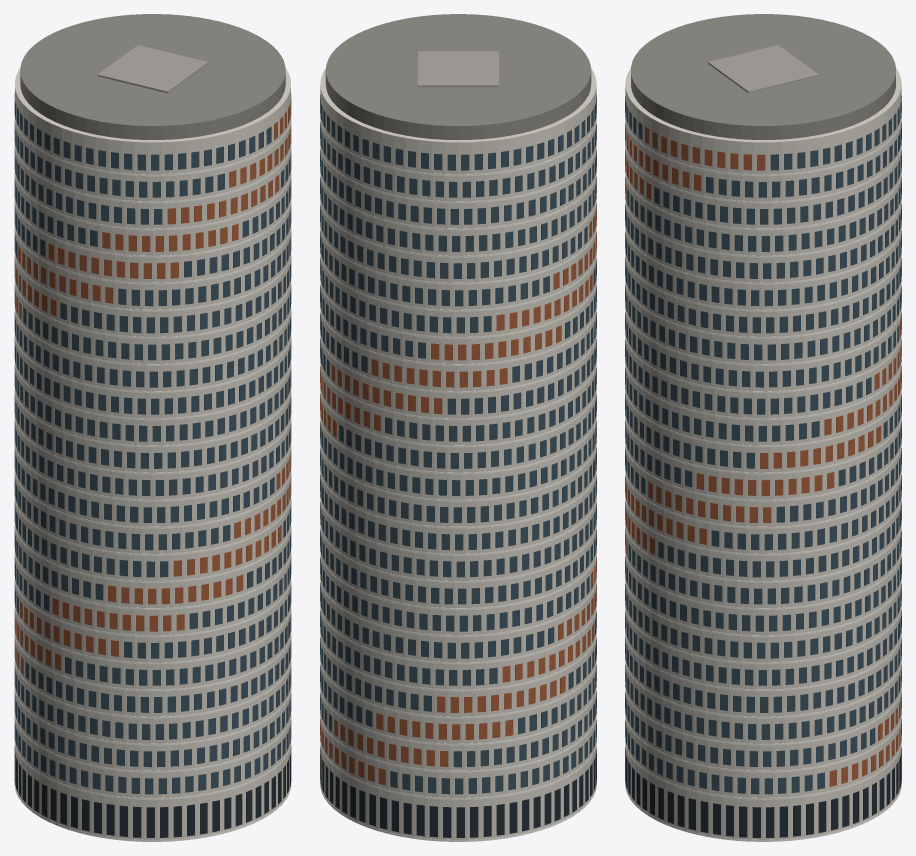
Rendered from tower.glb.
3 renders of one model, left to right at view 1: azimuth 30°, elevation 25°; view 2: azimuth 150°, elevation 25°; view 3: azimuth 270°, elevation 25°, orthographic.
Parts seen in each view (by area): view 1: Crown, Envelope_25, Envelope_1, Envelope_15, Envelope_6, Envelope_2, Envelope_4, Envelope_22, Envelope_24, Envelope_11, Envelope_20, Envelope_13 (+40 smaller); view 2: Crown, Envelope_25, Envelope_1, Envelope_4, Envelope_13, Envelope_10, Envelope_19, Envelope_22, Envelope_15, Envelope_24, Envelope_6, Envelope_8 (+40 smaller); view 3: Crown, Envelope_25, Envelope_1, Envelope_7, Envelope_4, Envelope_16, Envelope_13, Envelope_22, Envelope_11, Envelope_20, Envelope_2, Envelope_18 (+40 smaller).
Boxes of the visible parts, left/top/right/bottom form: Crown: left=20, top=14, right=285, bottom=139; Envelope_25: left=15, top=68, right=290, bottom=174; Envelope_1: left=15, top=747, right=290, bottom=839; Envelope_15: left=14, top=365, right=291, bottom=445; Envelope_6: left=14, top=609, right=291, bottom=689; Envelope_2: left=14, top=717, right=291, bottom=797; Envelope_4: left=14, top=663, right=291, bottom=743; Envelope_22: left=14, top=175, right=291, bottom=255; Envelope_24: left=14, top=121, right=291, bottom=201; Envelope_11: left=14, top=473, right=291, bottom=553; Envelope_20: left=14, top=229, right=291, bottom=309; Envelope_13: left=14, top=419, right=291, bottom=499; Crown: left=325, top=14, right=591, bottom=139; Envelope_25: left=320, top=68, right=596, bottom=174; Envelope_1: left=320, top=746, right=596, bottom=839; Envelope_4: left=320, top=664, right=596, bottom=743; Envelope_13: left=320, top=420, right=596, bottom=499; Envelope_10: left=320, top=502, right=596, bottom=580; Envelope_19: left=320, top=258, right=596, bottom=336; Envelope_22: left=320, top=176, right=596, bottom=255; Envelope_15: left=320, top=366, right=596, bottom=445; Envelope_24: left=320, top=122, right=596, bottom=201; Envelope_6: left=320, top=610, right=596, bottom=689; Envelope_8: left=320, top=556, right=596, bottom=635; Crown: left=631, top=14, right=895, bottom=139; Envelope_25: left=625, top=68, right=901, bottom=174; Envelope_1: left=625, top=746, right=901, bottom=839; Envelope_7: left=625, top=583, right=901, bottom=662; Envelope_4: left=625, top=664, right=901, bottom=743; Envelope_16: left=625, top=339, right=901, bottom=418; Envelope_13: left=625, top=420, right=901, bottom=499; Envelope_22: left=625, top=176, right=901, bottom=255; Envelope_11: left=625, top=474, right=901, bottom=553; Envelope_20: left=625, top=230, right=901, bottom=309; Envelope_2: left=625, top=718, right=901, bottom=797; Envelope_18: left=625, top=285, right=901, bottom=363.
Size of the model in its own units: 28.7 by 81.76 by 28.7.
